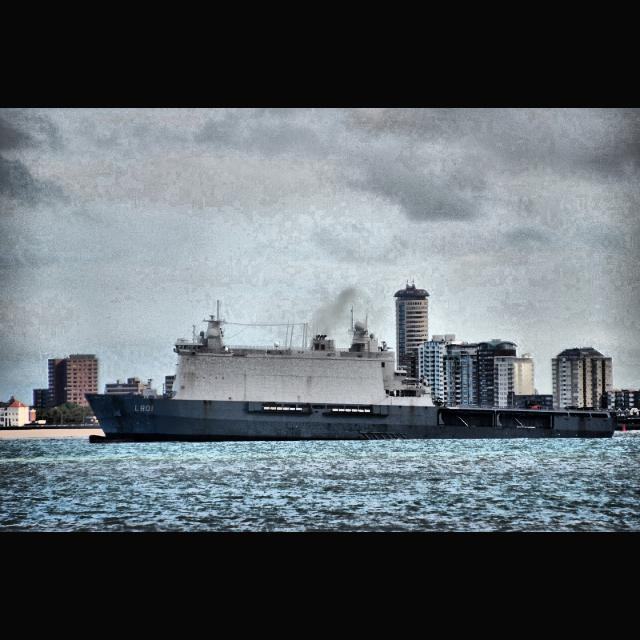combat_vessel: (84, 316, 616, 444)
